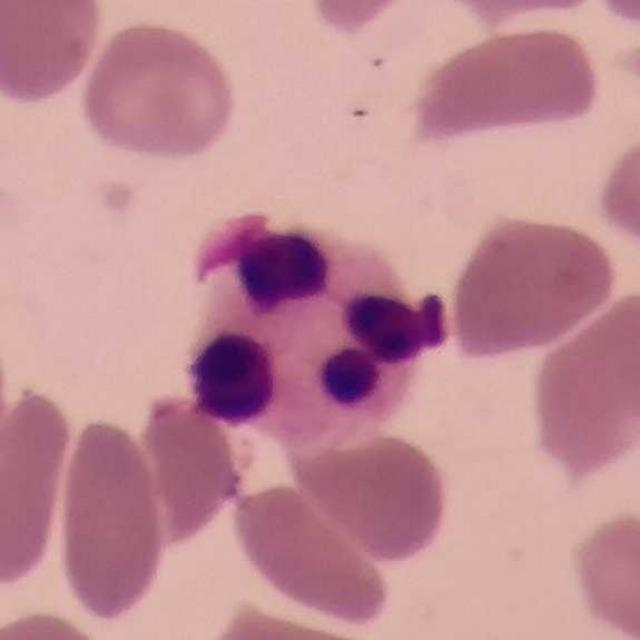Neutrophil: (162, 204, 446, 442)
RBC: (406, 17, 608, 158), (444, 208, 621, 362), (227, 476, 397, 630), (51, 412, 170, 628), (77, 15, 241, 164), (524, 284, 640, 483), (300, 426, 454, 568), (134, 386, 254, 550), (0, 383, 77, 592), (0, 0, 108, 108), (564, 505, 640, 640), (197, 600, 398, 640), (591, 119, 640, 273), (427, 0, 620, 28), (300, 0, 433, 39), (0, 605, 121, 639), (0, 316, 16, 494), (585, 0, 640, 38)
